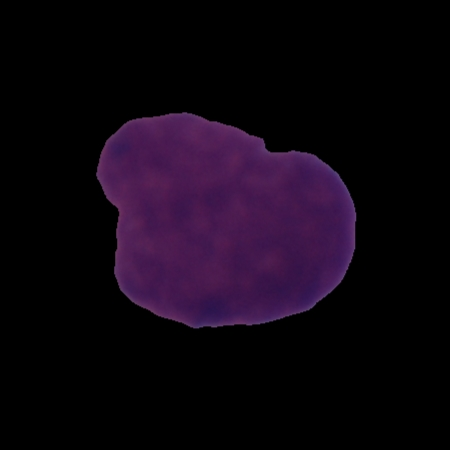ALL: (92, 107, 361, 332)
